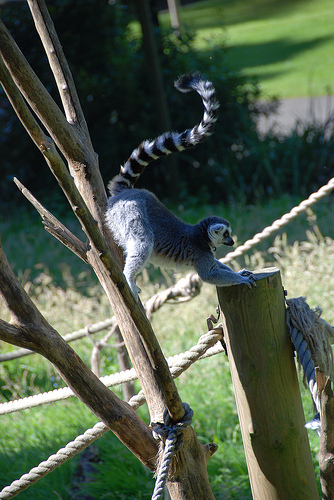cat: (95, 71, 265, 296)
